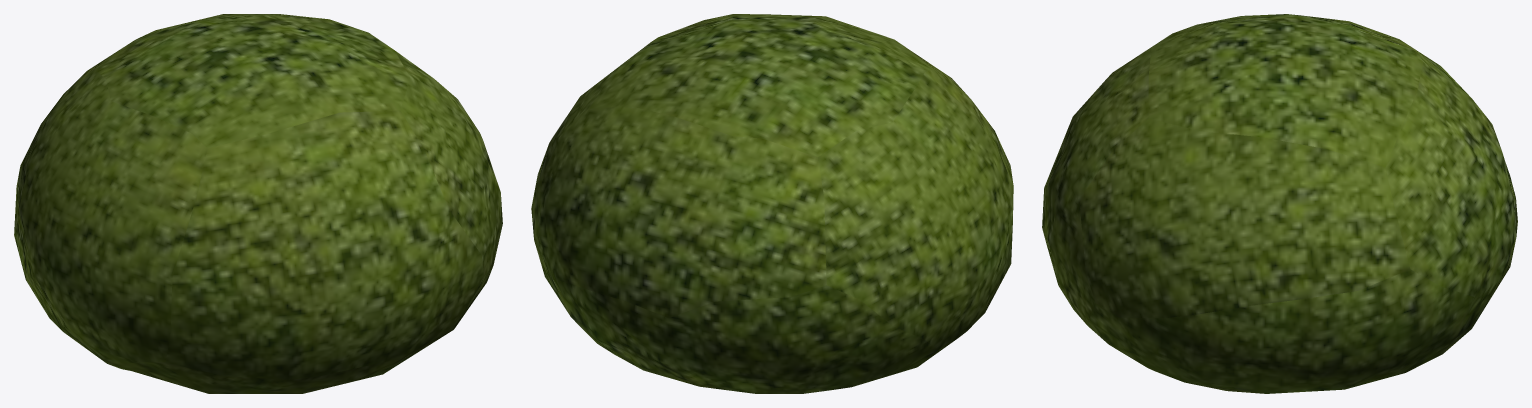
The model's file is prop_bush.glb.
The picture shows the model from 3 angles, left to right: view 1: azimuth 30°, elevation 25°; view 2: azimuth 150°, elevation 25°; view 3: azimuth 270°, elevation 25°; orthographic projection.
Parts seen in each view (by area): view 1: node_0; view 2: node_0; view 3: node_0.
Part boxes in pixels (x1,y1,x2,y2): node_0: [14, 14, 502, 393]; node_0: [531, 14, 1013, 393]; node_0: [1042, 14, 1517, 393].
Size of the model in its own units: 1.17 by 0.7858 by 1.16.
1 material, 1 textured.
